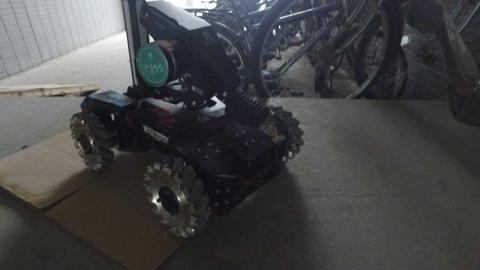bike: (216, 1, 431, 120)
chariot: (59, 13, 290, 241)
